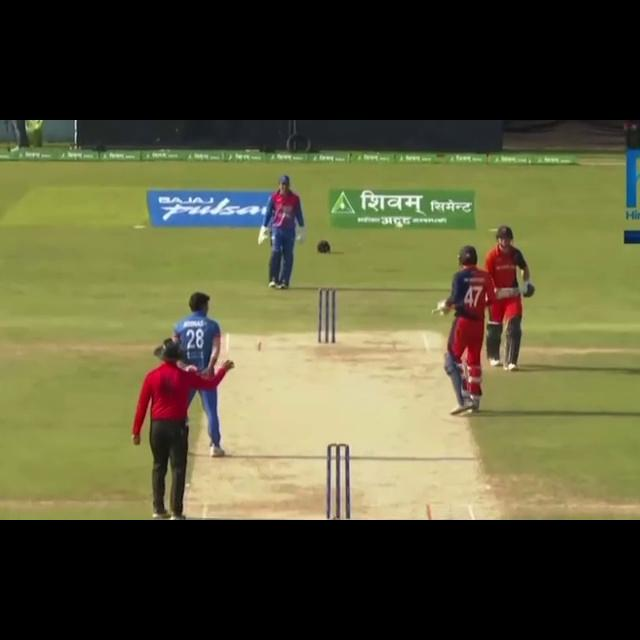umpire: (121, 335, 238, 520)
